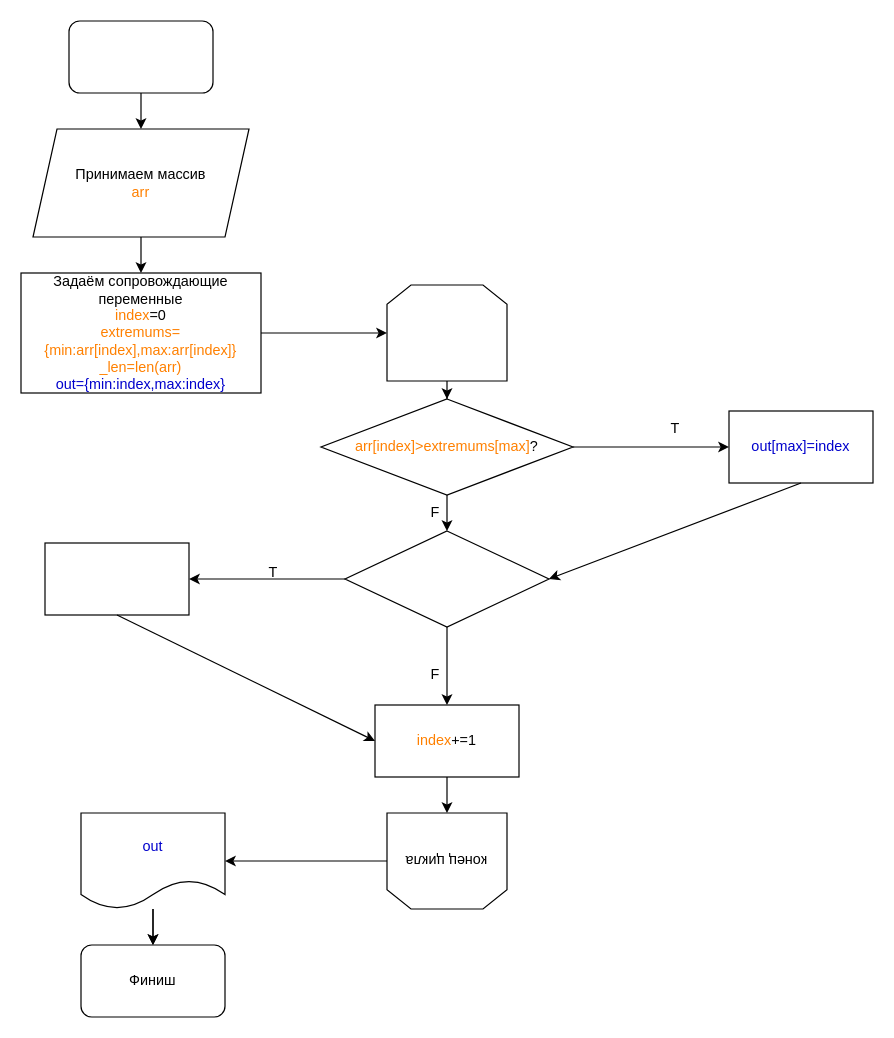
Image size: 894x1038. Some labels were removed from this diagram. The centre of each missing label's shape, as x and y in pixels:
"arr[index]<extremums[min]" belongs at pixel 446 578.
"out[min]=index" belongs at pixel 116 578.
"начало цикла с index до _len -1" belongs at pixel 446 332.
"Старт" belongs at pixel 140 56.
